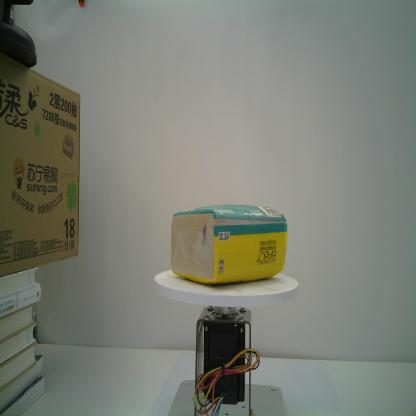Tissue: (169, 202, 289, 286)
